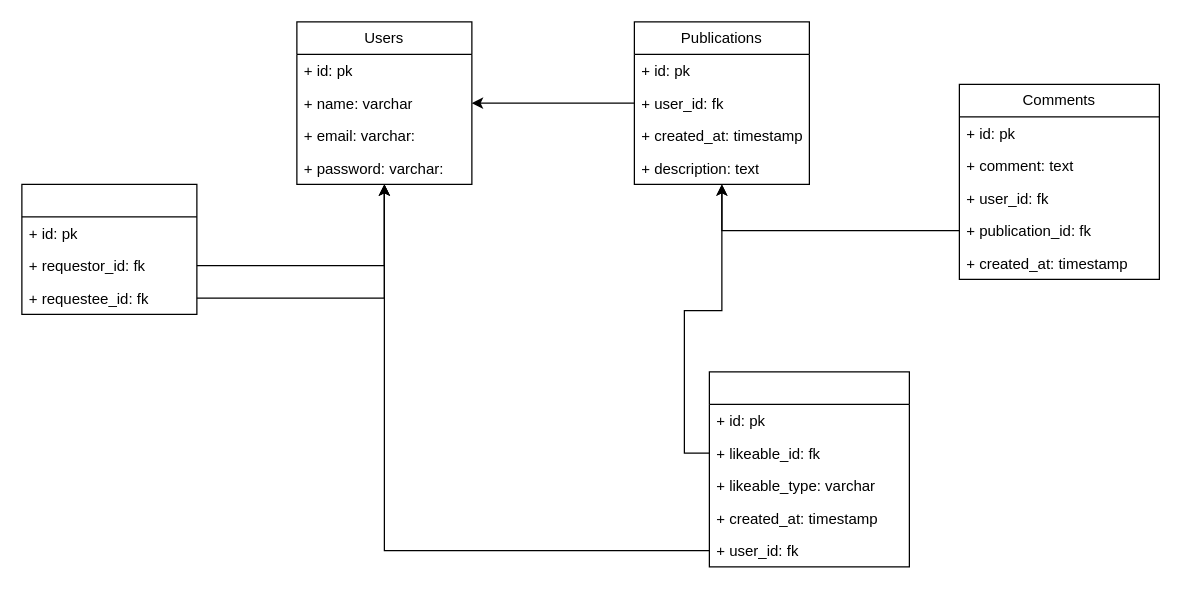
This 1181x593 diagram has some shape labels left out. Each missing label, with the box of its shape:
Friendship: (21, 183, 197, 314)
Likes: (708, 371, 909, 567)
